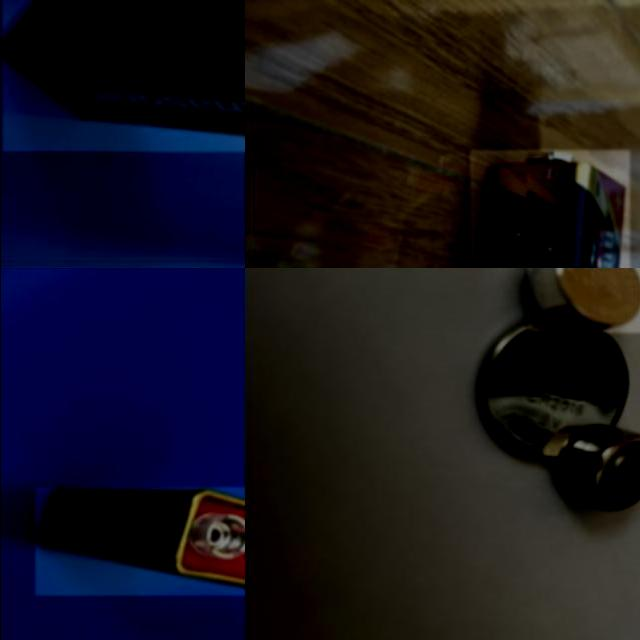9V: (1, 0, 244, 152), (34, 487, 244, 596), (469, 150, 629, 268)
